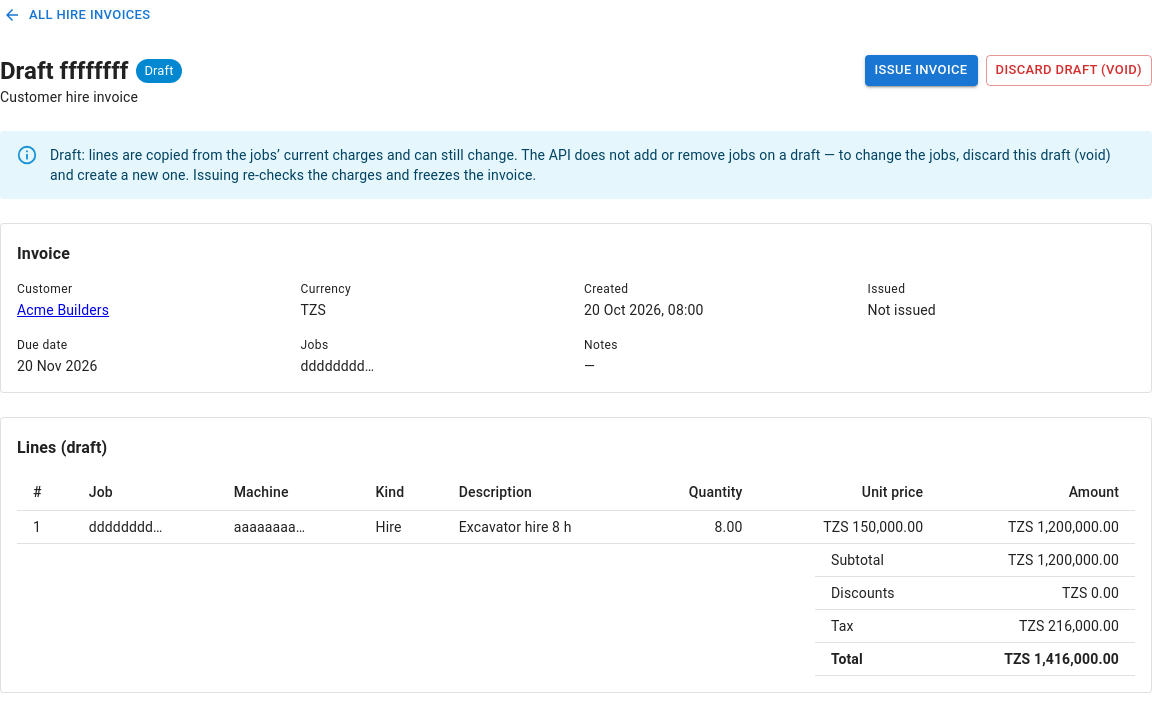
Test: HireInvoiceDetailPage › keeps DRAFT_STALE from issuing in the dialog with its hint
Click the button "Issue invoice": {"x": 921, "y": 70} [864,55,978,86]
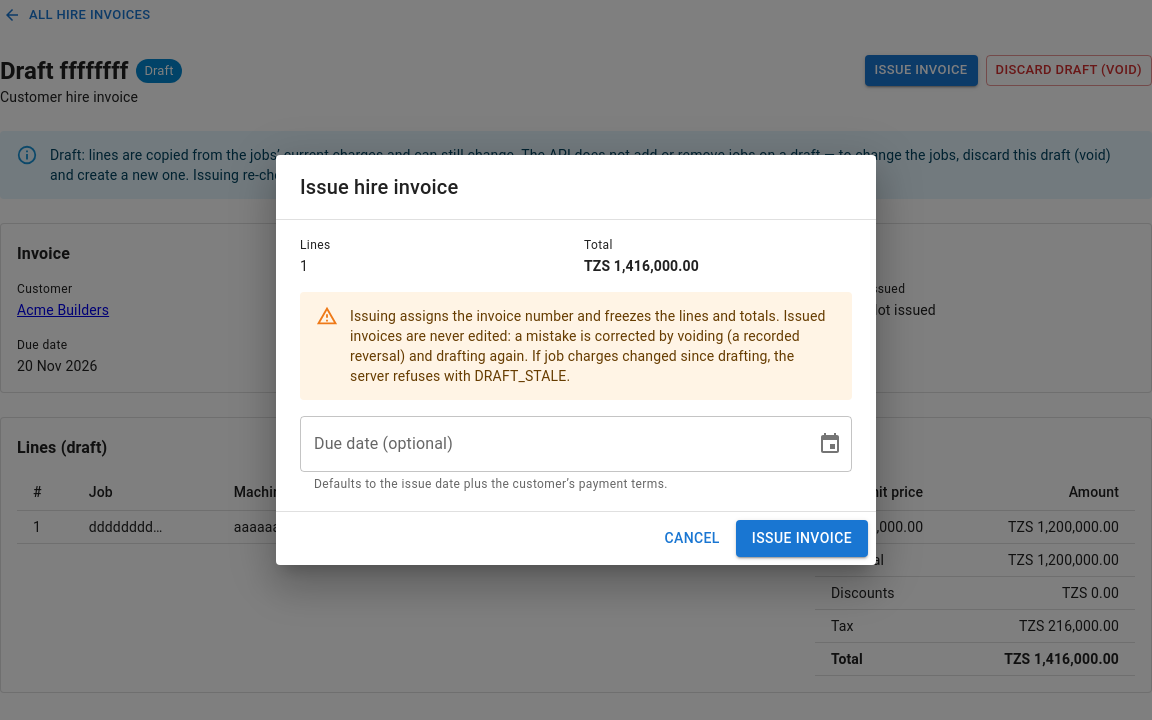
Click the button "Issue invoice": {"x": 802, "y": 538} [736,520,868,557]
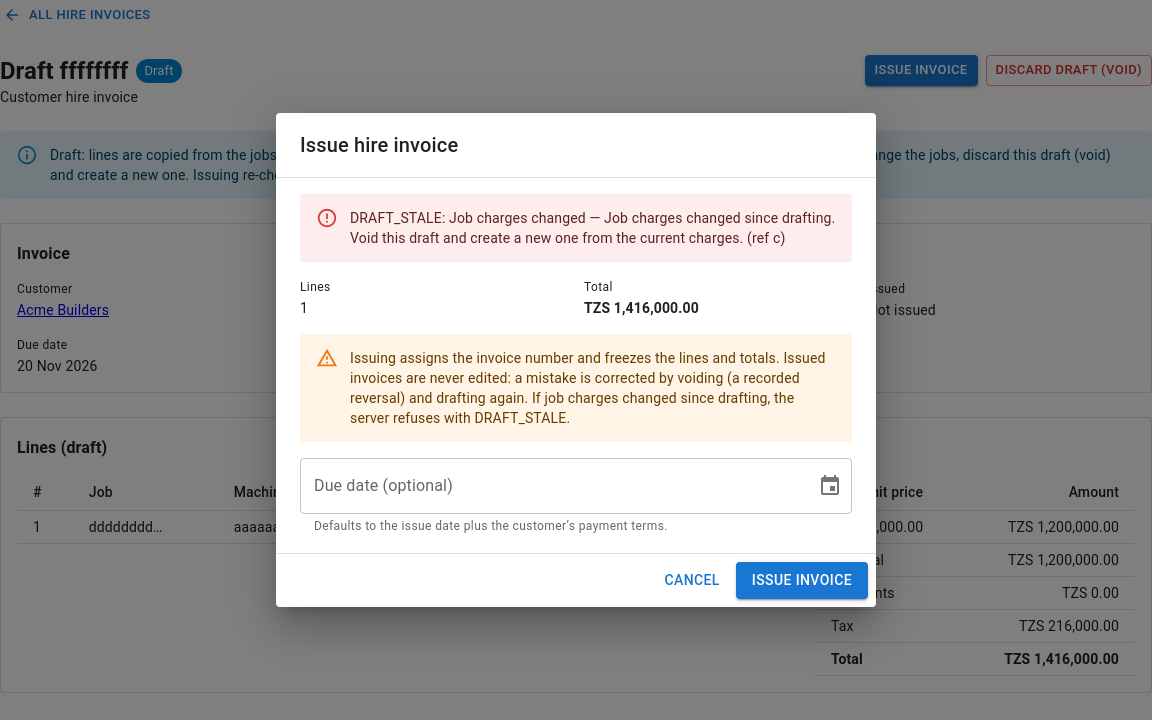
Result: the text "DRAFT_STALE: Job charges changed — Job charges changed since drafting" is shown at [350,210,835,246]
